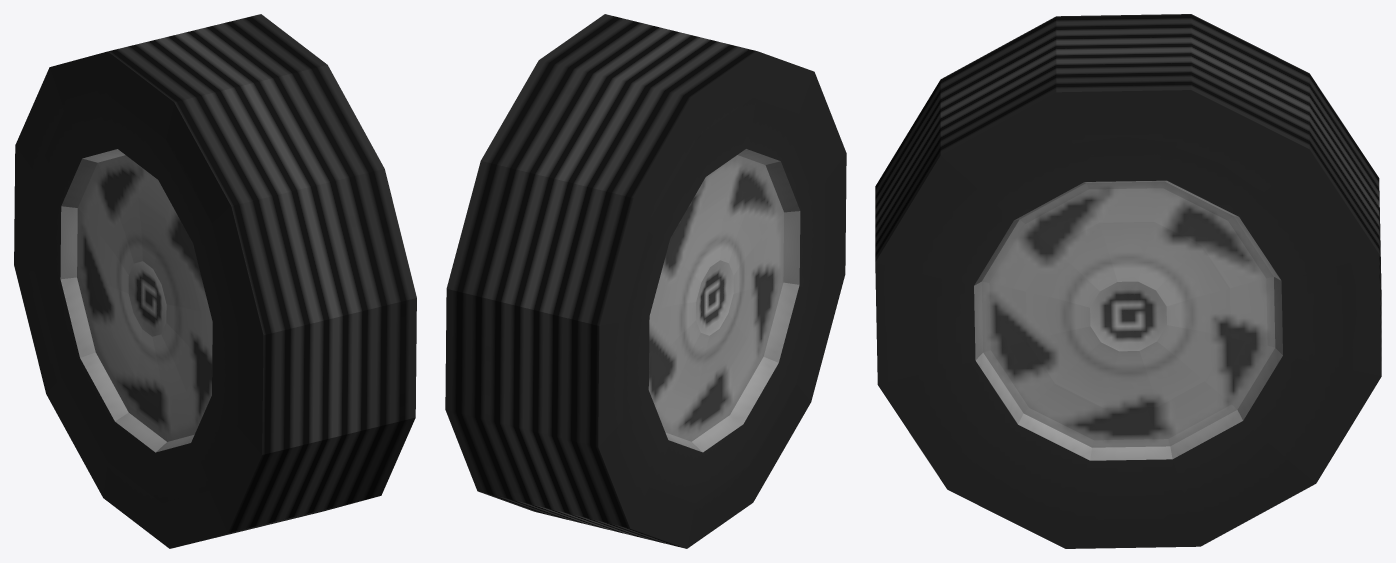
File: D25WheelC.fbx
3 views of the same model, side by side, from view 1: azimuth 30°, elevation 25°; view 2: azimuth 150°, elevation 25°; view 3: azimuth 270°, elevation 25° (orthographic).
Parts seen in each view (by area): view 1: GavrilWheel.001; view 2: GavrilWheel.001; view 3: GavrilWheel.001.
Part boxes in pixels (x1=…): GavrilWheel.001: x1=14, y1=14, x2=416, y2=548; GavrilWheel.001: x1=445, y1=14, x2=846, y2=548; GavrilWheel.001: x1=875, y1=14, x2=1381, y2=548.
Bounding box in the file's own units: 0.3644 × 0.9961 × 0.9961.
